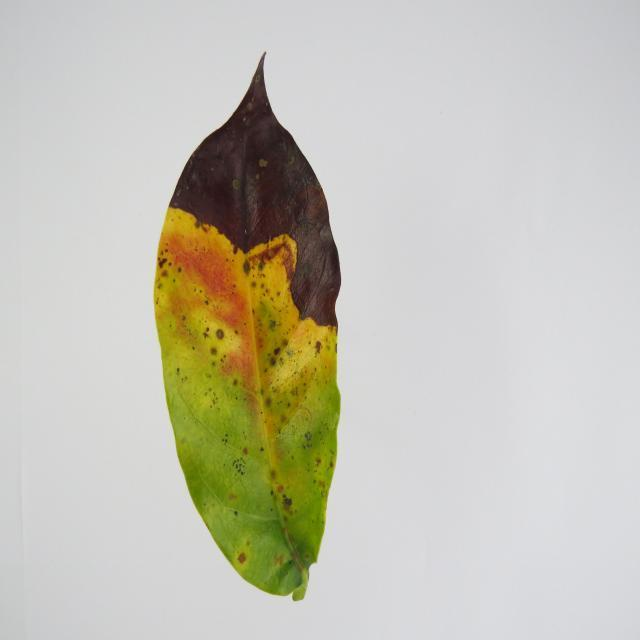DeficienciaNutricional-Fosforo: (154, 55, 340, 600)
